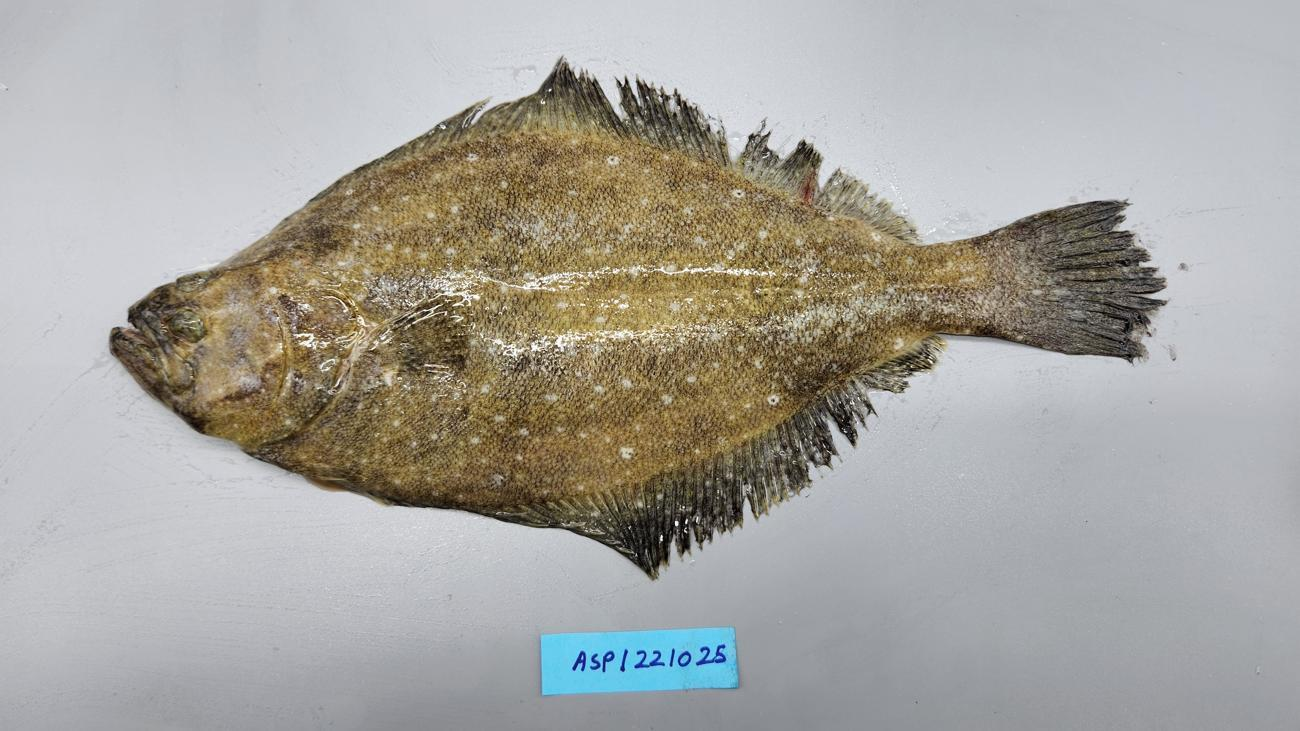SPDYH: (260, 414, 553, 508)
SPFAH: (609, 473, 744, 580)
SPFCH: (1009, 199, 1131, 244), (1028, 328, 1145, 362)
SPOUY: (98, 52, 1176, 587)
